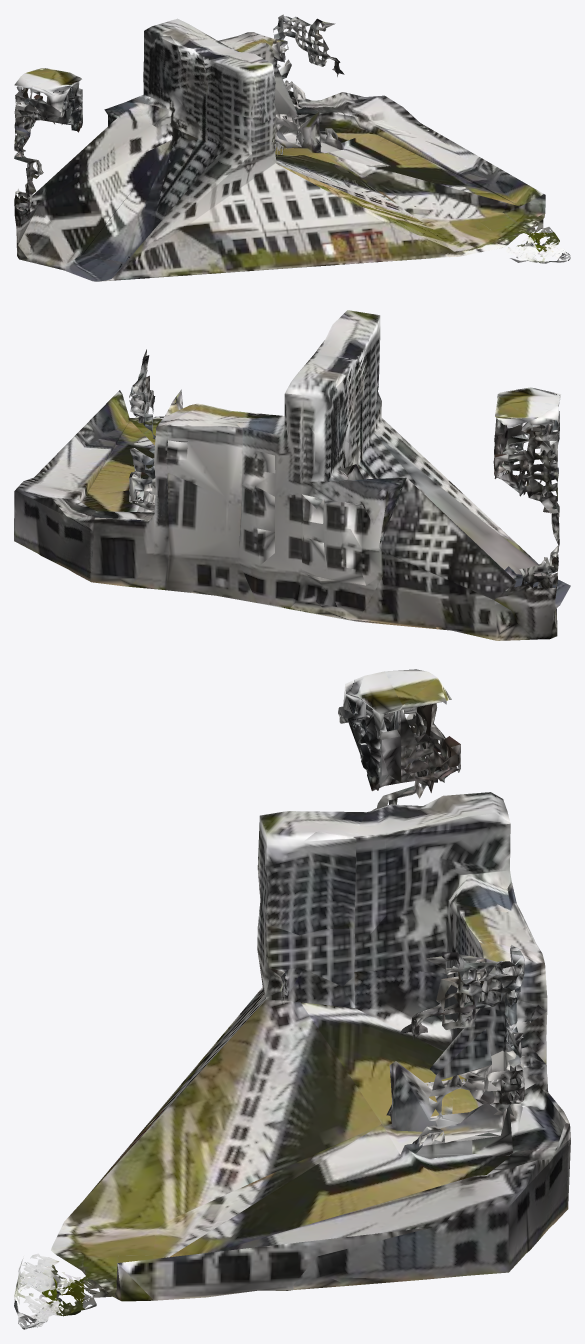
The model's file is construction-10.glb.
The picture shows the model from 3 angles, top to bottom: view 1: azimuth 30°, elevation 25°; view 2: azimuth 150°, elevation 25°; view 3: azimuth 270°, elevation 25°; orthographic projection. The views are drawn at different scales.
Bounding box in the file's own units: 1.48 × 0.6316 × 0.9939.
1 material, 1 textured.
